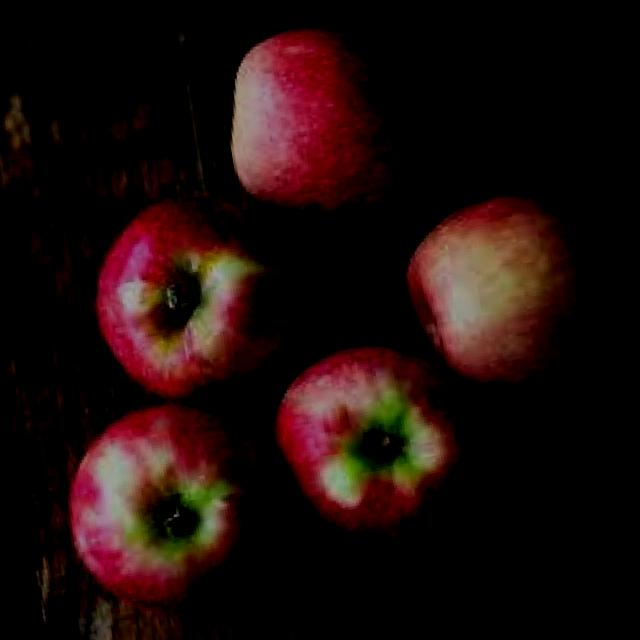Apple: (52, 384, 298, 626), (392, 173, 632, 420), (261, 324, 499, 562), (79, 178, 317, 412), (214, 9, 434, 244)
